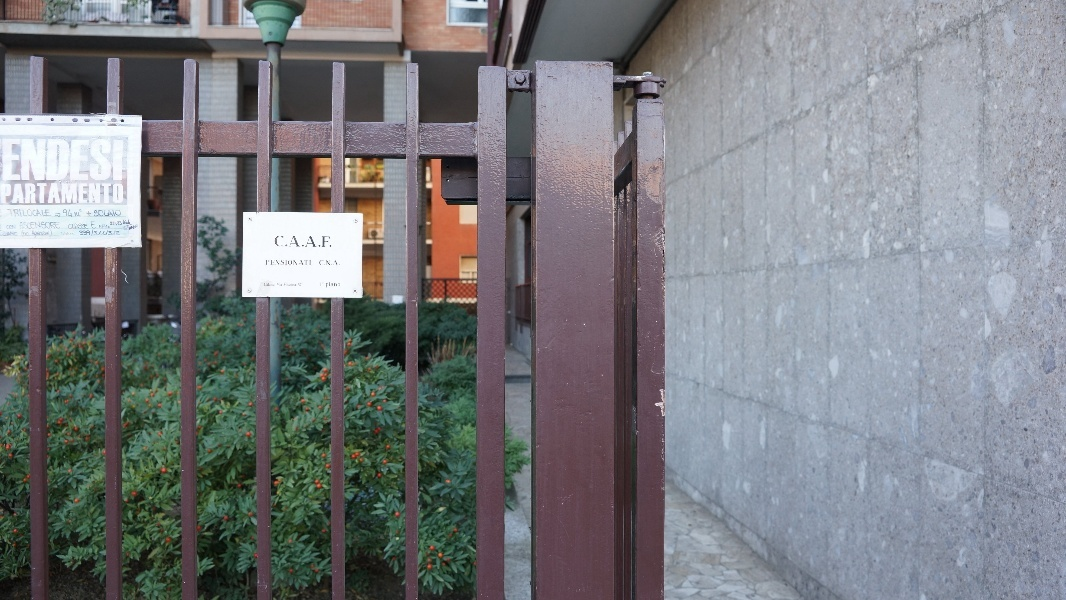text: (1, 139, 16, 182), (17, 139, 32, 182), (33, 139, 48, 182), (49, 139, 64, 182), (65, 139, 80, 182), (81, 139, 96, 182), (97, 139, 112, 182), (113, 139, 125, 182), (1, 183, 16, 205), (17, 183, 32, 205), (33, 183, 48, 205), (49, 183, 64, 205), (65, 183, 80, 205), (81, 183, 96, 205), (97, 183, 112, 205), (113, 183, 123, 205), (289, 236, 304, 249), (305, 236, 320, 249), (275, 236, 288, 249), (321, 236, 333, 249), (17, 209, 32, 218), (33, 209, 48, 218), (97, 210, 112, 218), (33, 222, 48, 230), (33, 230, 48, 238), (65, 210, 80, 217), (81, 230, 96, 237), (97, 230, 112, 237), (20, 222, 32, 230), (49, 222, 61, 230), (273, 260, 288, 266), (289, 260, 304, 266), (321, 260, 336, 266), (98, 224, 112, 230), (7, 209, 16, 218), (129, 224, 139, 232), (321, 282, 336, 287), (113, 210, 122, 218), (68, 224, 80, 230), (22, 230, 32, 237), (86, 211, 96, 217), (113, 230, 121, 237), (113, 221, 122, 227), (81, 224, 90, 230), (6, 225, 16, 230), (326, 283, 336, 288), (65, 232, 76, 236), (8, 231, 16, 236), (266, 260, 272, 266), (305, 260, 311, 266), (91, 222, 96, 229), (49, 230, 53, 238), (124, 224, 128, 232), (123, 220, 128, 226), (49, 209, 52, 218), (264, 284, 272, 287), (289, 284, 297, 287), (337, 260, 341, 266), (277, 284, 288, 286), (81, 210, 84, 217), (337, 283, 341, 288), (94, 210, 96, 218), (110, 221, 112, 227), (61, 232, 64, 236), (129, 220, 131, 226), (284, 284, 288, 287), (298, 284, 304, 286), (17, 231, 19, 236), (273, 284, 276, 287), (63, 210, 64, 217), (79, 230, 80, 237), (319, 260, 320, 266)
